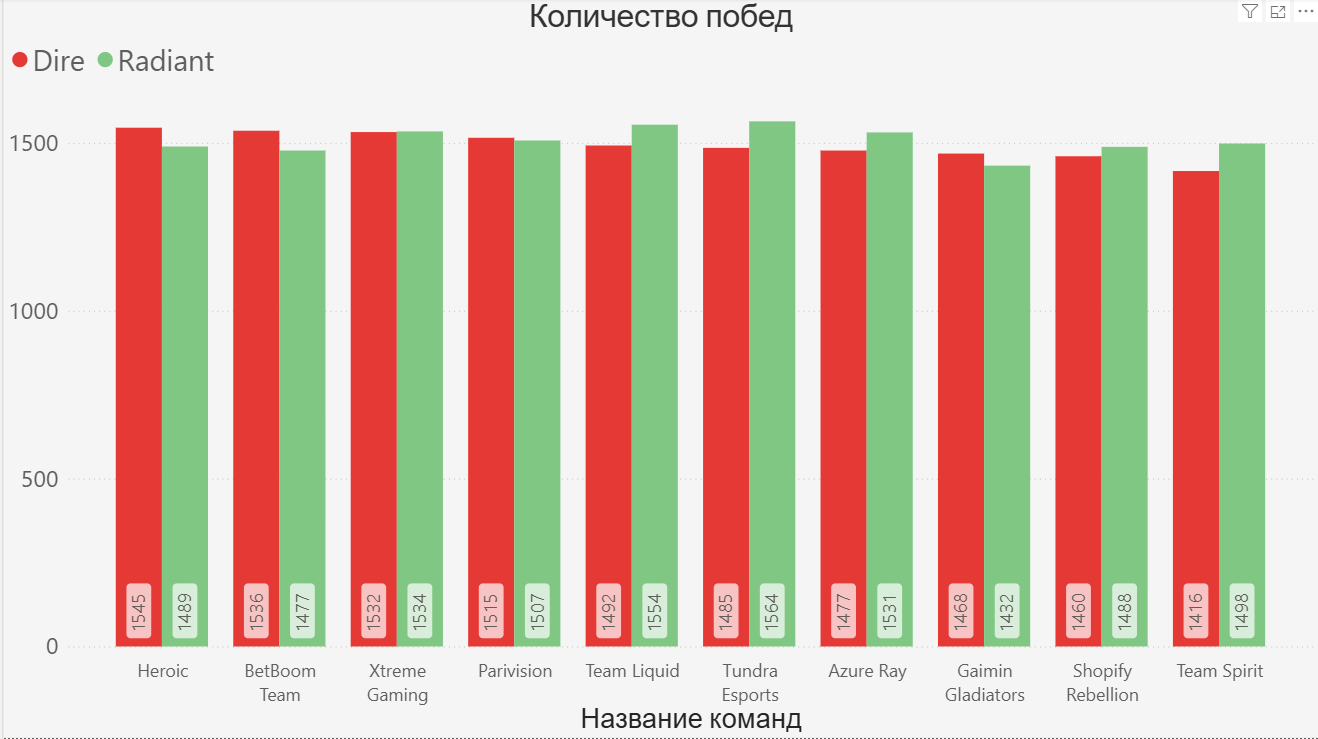

The page's visual inventory and layout, read from the dashboard file:
{"tool":"powerbi","page":{"name":"Страница 2","canvas":[1280,720],"ordinal":1},"visuals":[{"type":"lineClusteredColumnComboChart","title":"Количество побед","fields":{"Category":["dota2_teams.Team_Name"],"Y":["dota2_matches.Количество побед за Dire","dota2_matches.Количество побед за Radiant"]},"box":[0,0,1280,719.8],"z":0}]}

Visuals, with their boxes on the page's 1280x720 design canvas (x1, y1, x2, y2). These are canvas units, not pixel positions in the 1318x739 screenshot, which may show the page scaled, cropped or inside an application window:
"Количество побед" lineClusteredColumnComboChart: x1=0 y1=0 x2=1280 y2=720
